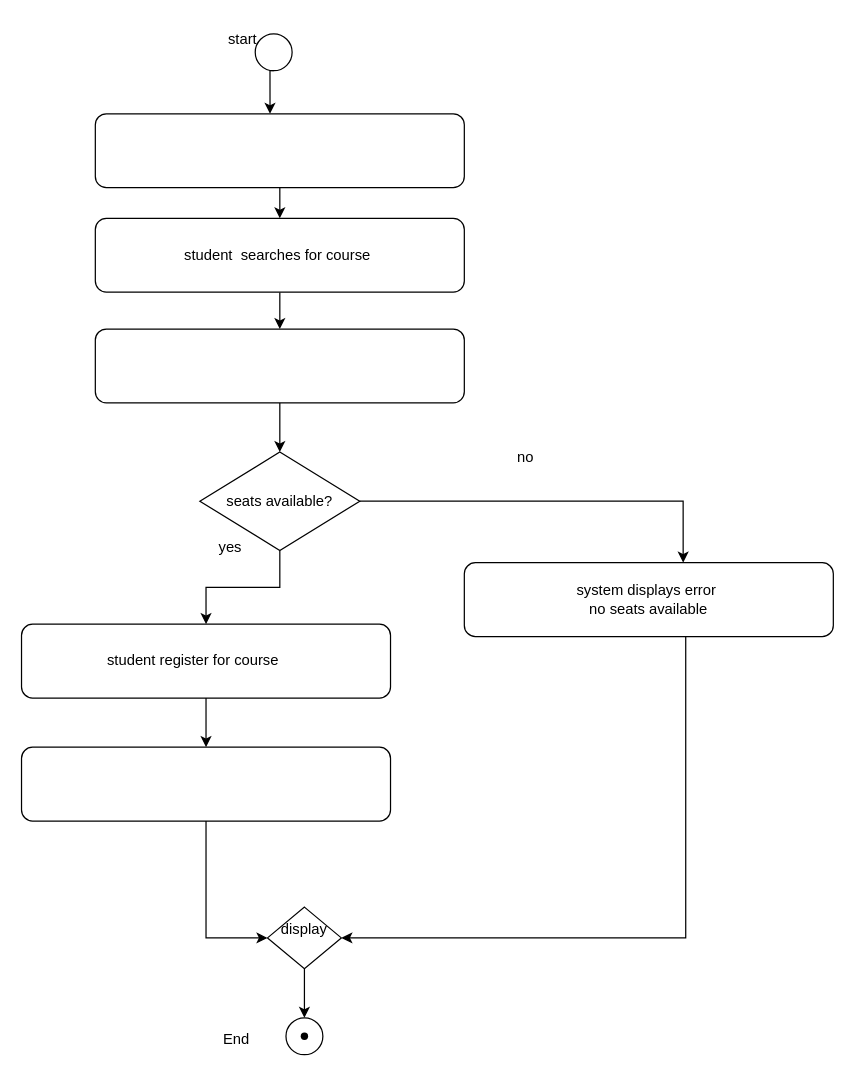
Some shapes in this 855 by 1087 pixel diagram are drawn without their labels. The centre of each missing label's shape, as x and y in pixels:
"Student logs into Portalc" belongs at [279,150].
"system checks course availability" belongs at [279,365].
"system confirms successful registration" belongs at [205,783].
